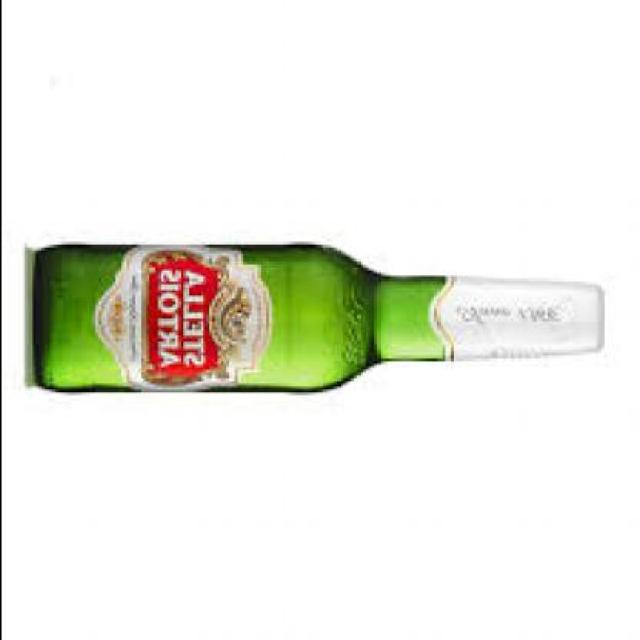GLASS: (31, 244, 606, 398)
